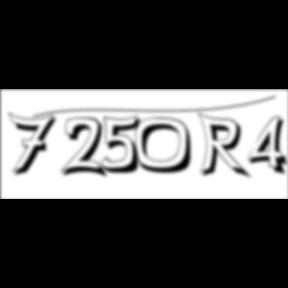2: (61, 117, 111, 181)
5: (101, 114, 148, 176)
7: (8, 111, 62, 179)
O: (135, 117, 200, 176)
R: (198, 112, 256, 182)
